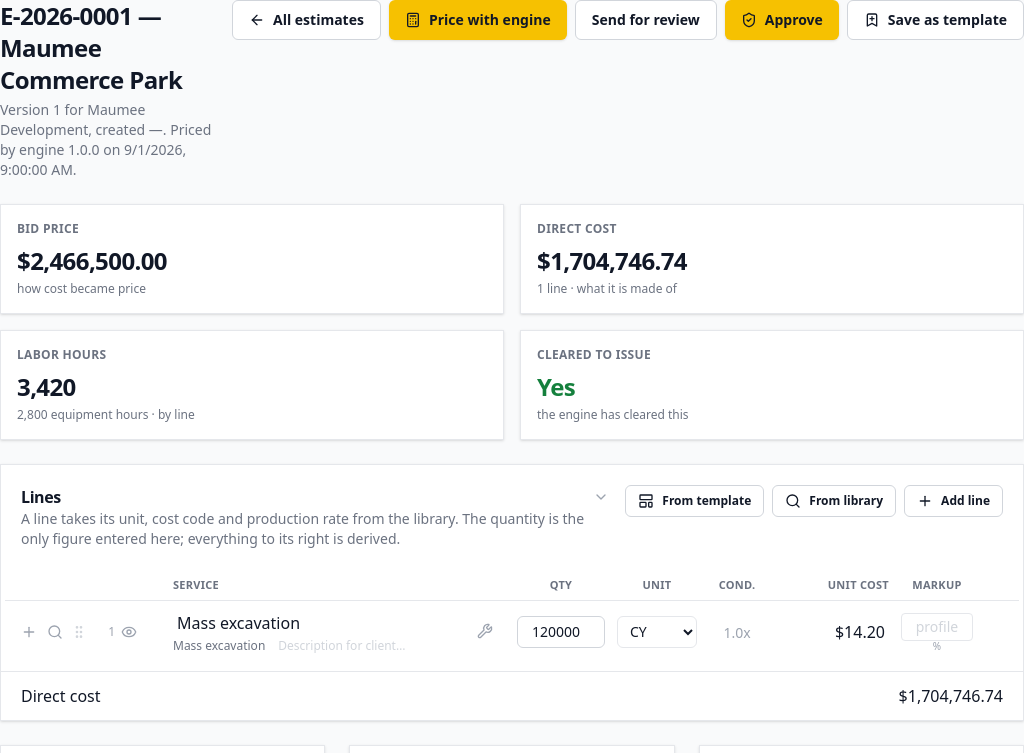
Test: pricing an estimate from the workspace › lists the holes rather than saying pricing failed
Click the button "Price with engine": [478, 20] box [389,0,567,40]
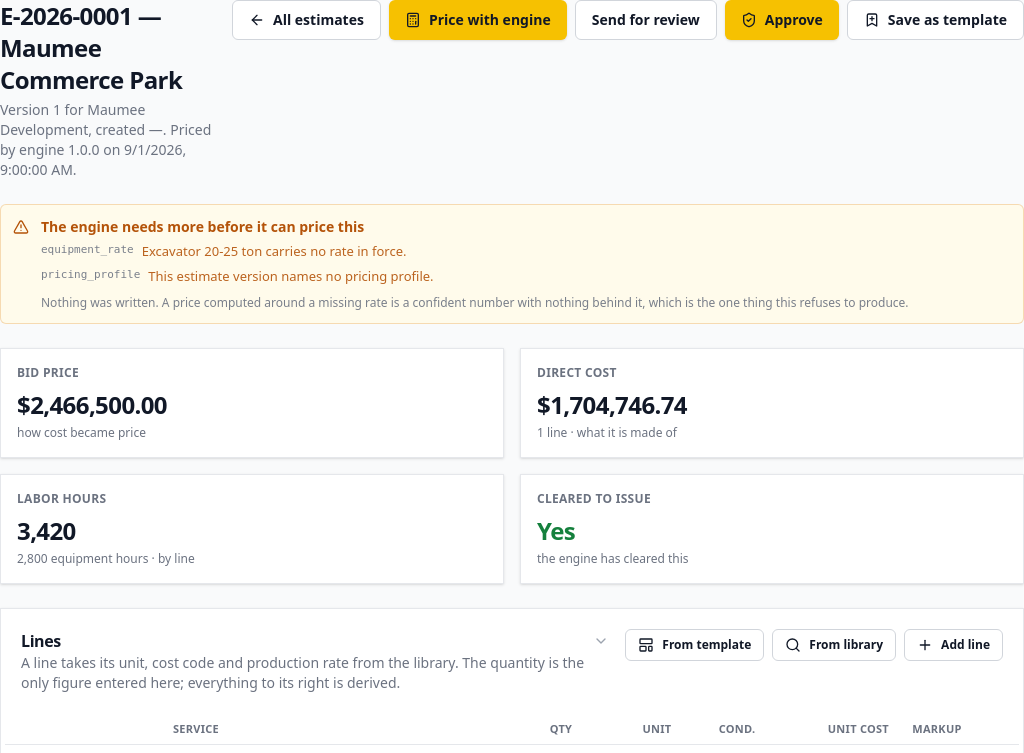
Now the text "Excavator 20-25 ton carries no rate in force." is shown, box [142,241,406,262]
Now the text "This estimate version names no pricing profile." is shown, box [148,266,434,287]
Now the text "equipment_rate" is shown, box [41,241,134,262]
